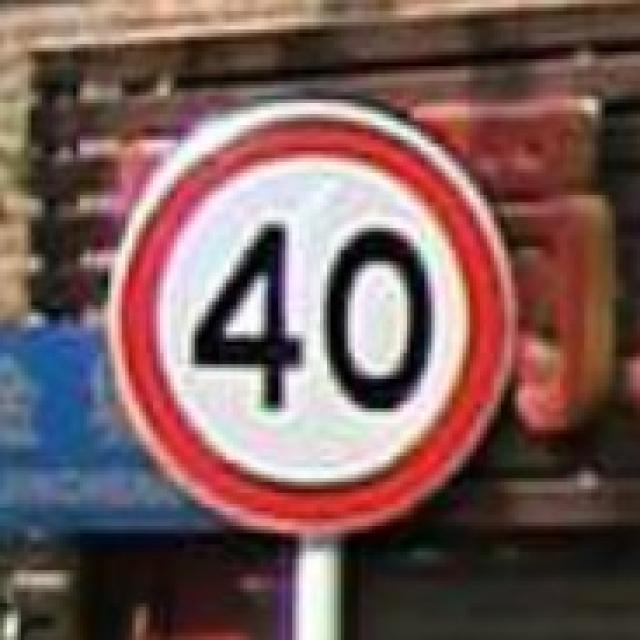Speed Limit -40-: (188, 214, 436, 415)
